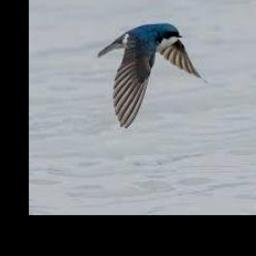Swallow: (96, 22, 205, 127)
